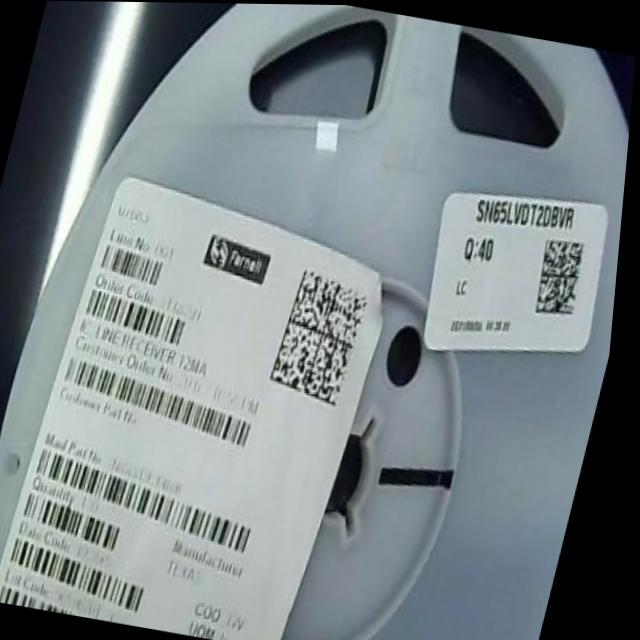datamatrix: (271, 264, 383, 411), (533, 229, 599, 322)
